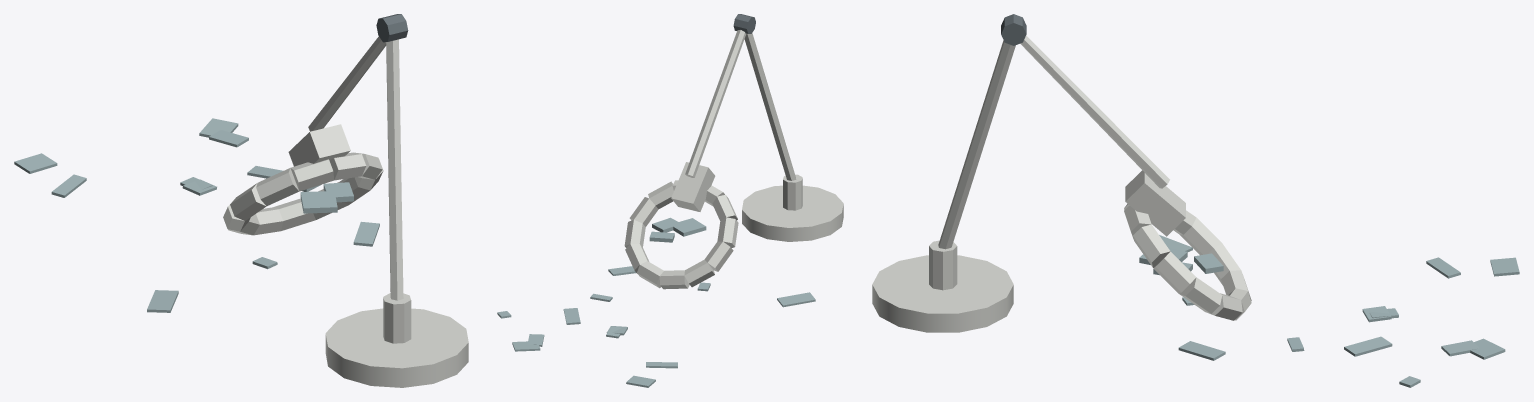
File: magnifier_lamp_broken.fbx
The picture shows the model from 3 angles, left to right: view 1: azimuth 30°, elevation 25°; view 2: azimuth 150°, elevation 25°; view 3: azimuth 270°, elevation 25°; orthographic projection. The views are drawn at different scales.
Parts seen in each view (by area): view 1: magnifier_lamp_broken, magnifier_lamp_broken_glass; view 2: magnifier_lamp_broken, magnifier_lamp_broken_glass; view 3: magnifier_lamp_broken, magnifier_lamp_broken_glass.
Boxes of the visible parts, x1=… form: magnifier_lamp_broken: x1=223, y1=14, x2=468, y2=387; magnifier_lamp_broken_glass: x1=14, y1=118, x2=379, y2=312; magnifier_lamp_broken: x1=624, y1=14, x2=843, y2=289; magnifier_lamp_broken_glass: x1=497, y1=217, x2=815, y2=387; magnifier_lamp_broken: x1=872, y1=14, x2=1251, y2=332; magnifier_lamp_broken_glass: x1=1139, y1=235, x2=1519, y2=387.
Bounding box in the file's own units: 50.73 × 46.95 × 91.51.
